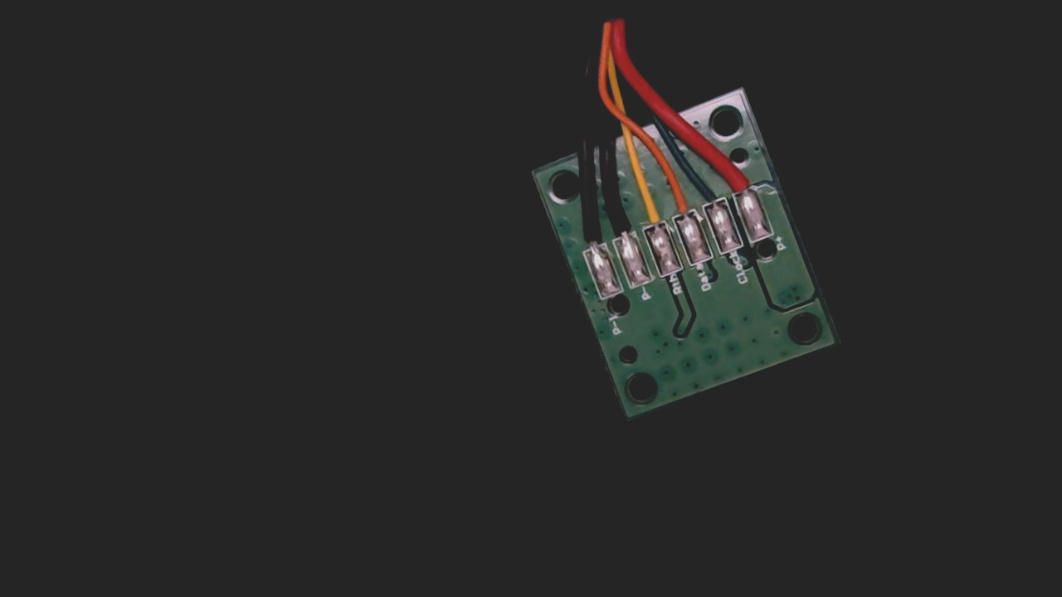Black: (597, 188, 644, 254)
Black1: (567, 203, 611, 264)
Green: (691, 169, 731, 222)
Orange: (659, 174, 701, 232)
Red: (716, 150, 762, 214)
Yellow: (627, 175, 674, 242)
